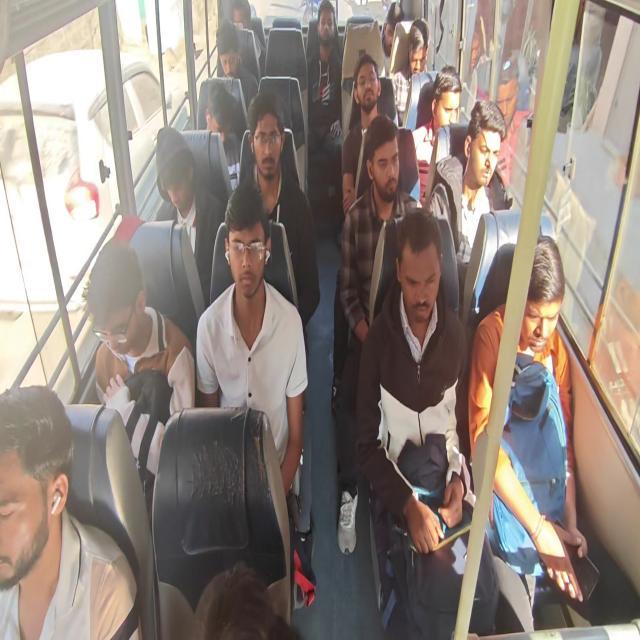person: (355, 207, 499, 638), (468, 233, 586, 603), (332, 114, 421, 554), (195, 181, 309, 503), (0, 383, 142, 639), (85, 239, 195, 529), (239, 91, 320, 337), (428, 99, 508, 312), (155, 126, 224, 310), (341, 53, 394, 217), (192, 560, 302, 638), (306, 0, 344, 214), (411, 64, 462, 204), (492, 56, 526, 189), (391, 19, 430, 125), (204, 82, 242, 190), (215, 18, 259, 111), (229, 0, 266, 81), (380, 0, 404, 76)
